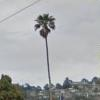Palm tree: (29, 6, 75, 84)
